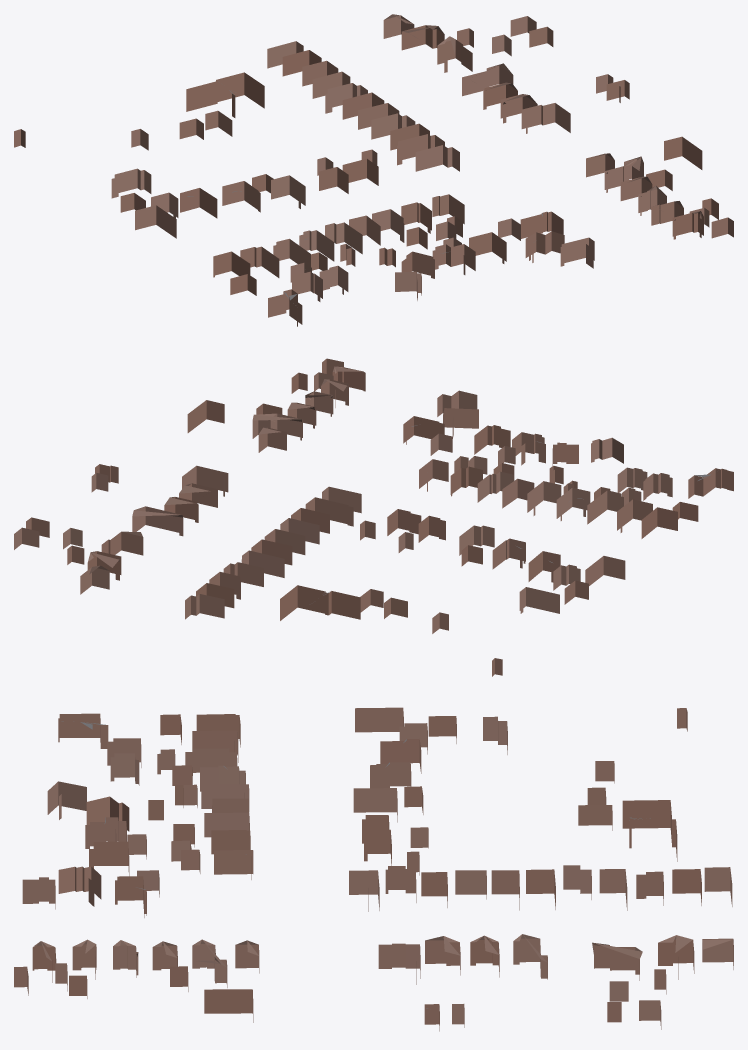
The model's file is c_1642_17828_buildings_residential.glb.
3 views of the same model, one above another, from view 1: azimuth 30°, elevation 25°; view 2: azimuth 150°, elevation 25°; view 3: azimuth 270°, elevation 25° (orthographic). The views are drawn at different scales.
Visible parts, largest first — view 1: geometry_0; view 2: geometry_0; view 3: geometry_0.
Part boxes in pixels (bbox=[...]): geometry_0: bbox=[14, 14, 733, 326]; geometry_0: bbox=[14, 358, 733, 676]; geometry_0: bbox=[14, 707, 733, 1031].
Size of the model in its own units: 259 by 11.08 by 256.
